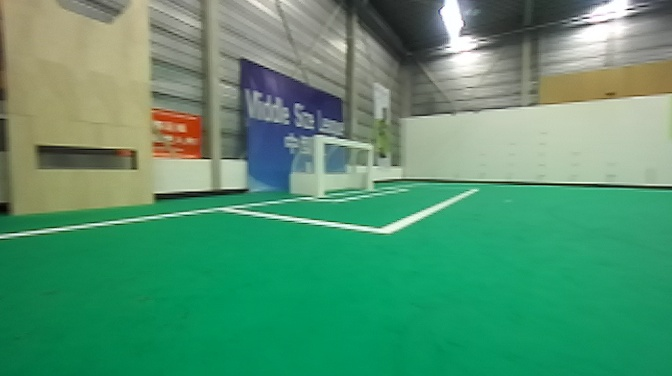goalpost: (311, 132, 331, 197), (356, 138, 376, 199)
